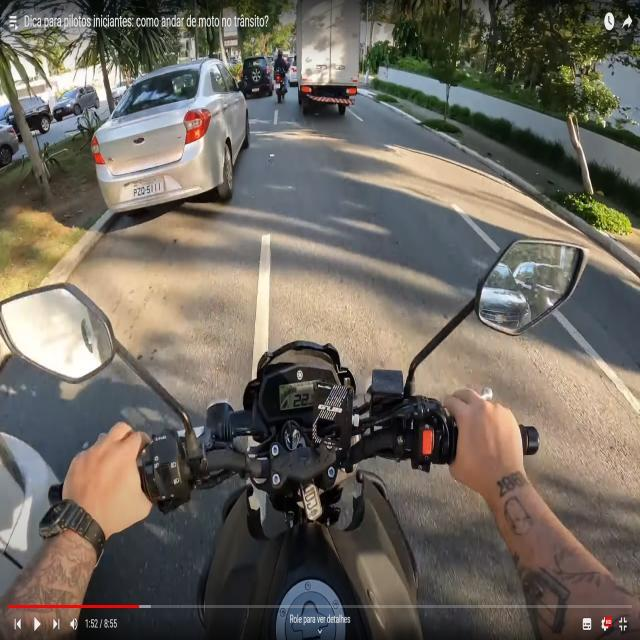Placa_mercosul_carro: (127, 176, 165, 200)
